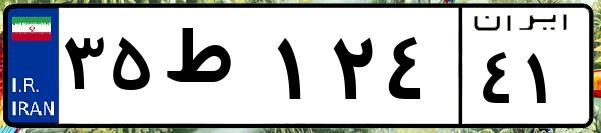1: (270, 28, 330, 110), (525, 38, 570, 115)
2: (330, 28, 385, 110)
3: (57, 26, 110, 100)
4: (385, 28, 445, 110), (475, 38, 525, 113)
5: (110, 28, 158, 98)
ط: (158, 20, 270, 120)
